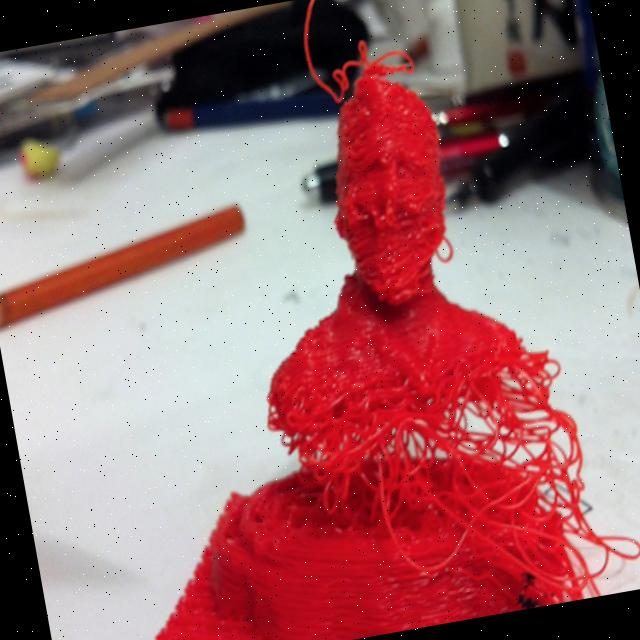spaghetti: (263, 319, 635, 640), (283, 0, 429, 109)
